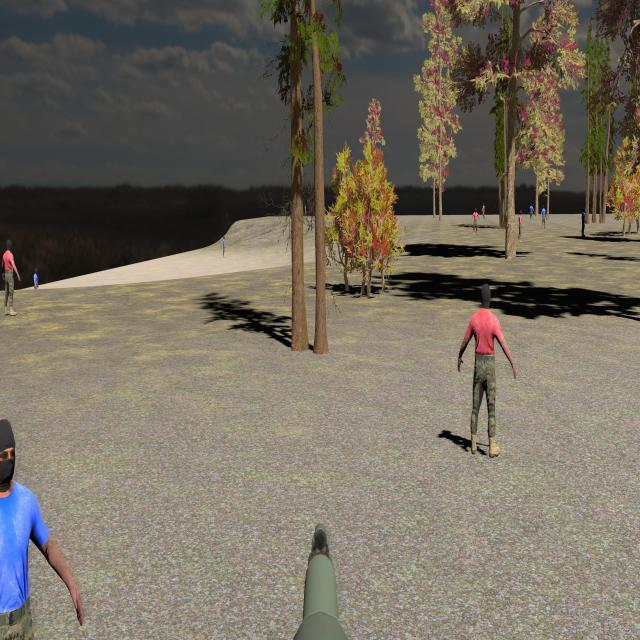Human: (0, 408, 84, 640), (457, 283, 516, 458), (1, 238, 20, 318)
